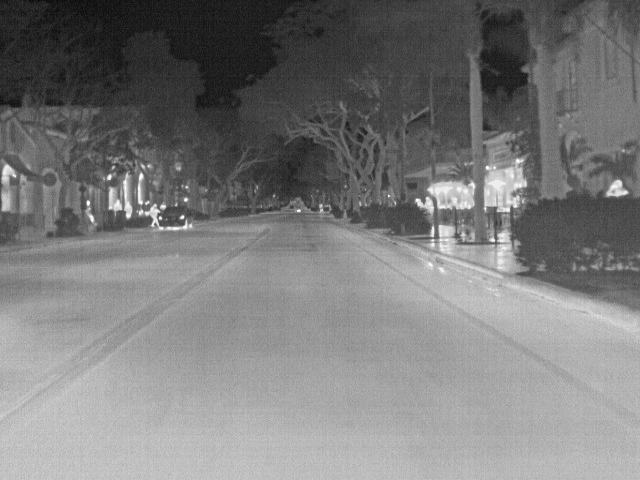car: (159, 206, 194, 231)
person: (605, 178, 629, 199), (81, 200, 96, 224), (146, 204, 158, 226), (421, 193, 435, 209), (123, 200, 135, 218), (412, 194, 422, 211), (111, 198, 123, 212)
